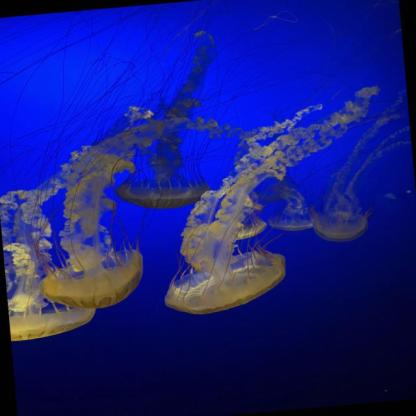jellyfish: (160, 248, 289, 317), (35, 247, 146, 313), (112, 173, 212, 212), (8, 305, 98, 341), (312, 207, 372, 244), (264, 214, 316, 232), (229, 219, 268, 242)
